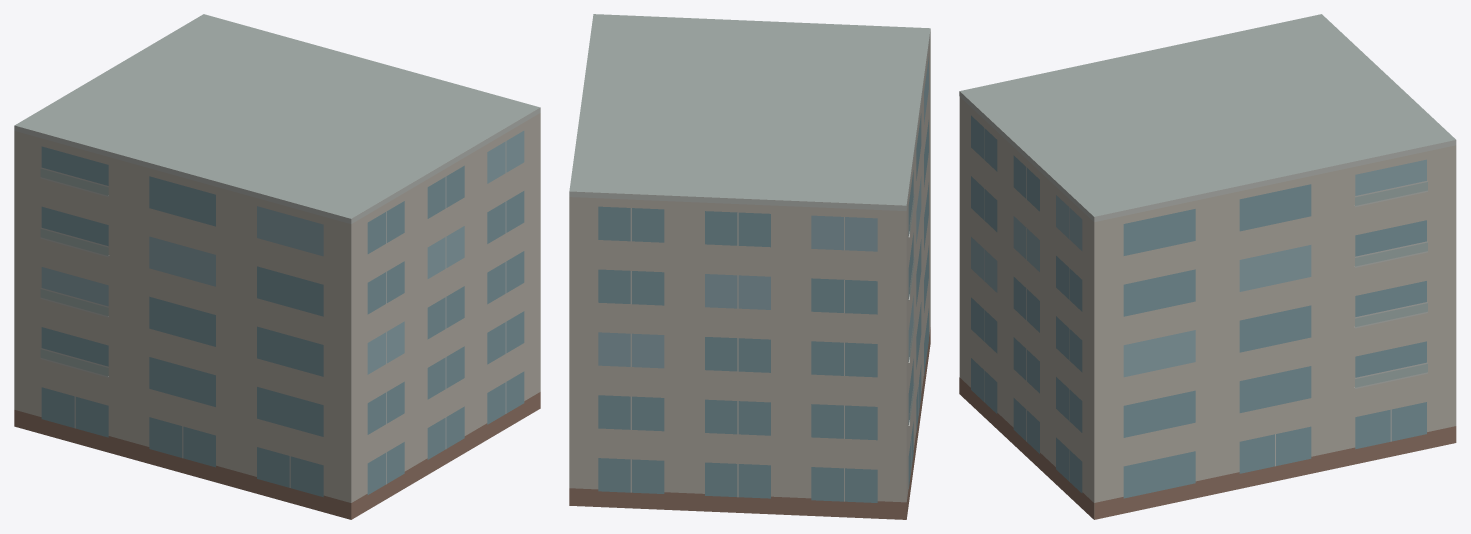
Rendered from survey-upis-32730267.glb.
3 views of the same model, side by side, from view 1: azimuth 30°, elevation 25°; view 2: azimuth 150°, elevation 25°; view 3: azimuth 270°, elevation 25° (orthographic). The views are drawn at different scales.
Parts seen in each view (by area): view 1: survey-upis-32730267.tmp; view 2: survey-upis-32730267.tmp; view 3: survey-upis-32730267.tmp.
Boxes of the visible parts, x1=… form: survey-upis-32730267.tmp: x1=14, y1=14, x2=540, y2=519; survey-upis-32730267.tmp: x1=569, y1=14, x2=930, y2=519; survey-upis-32730267.tmp: x1=959, y1=14, x2=1456, y2=519.
Size of the model in its own units: 19.83 by 13.8 by 20.52.
